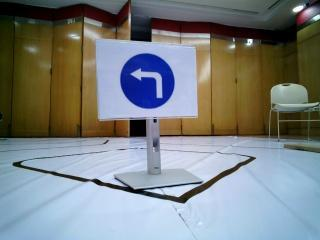left: (99, 41, 193, 113)
